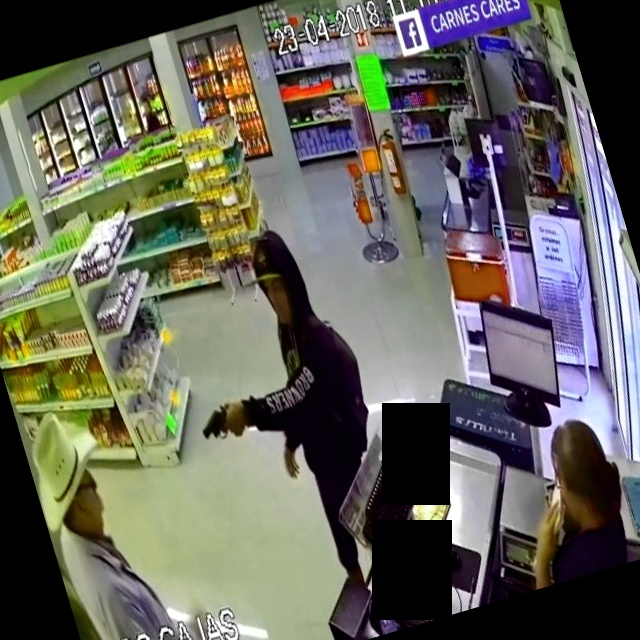gun: (185, 380, 259, 468)
